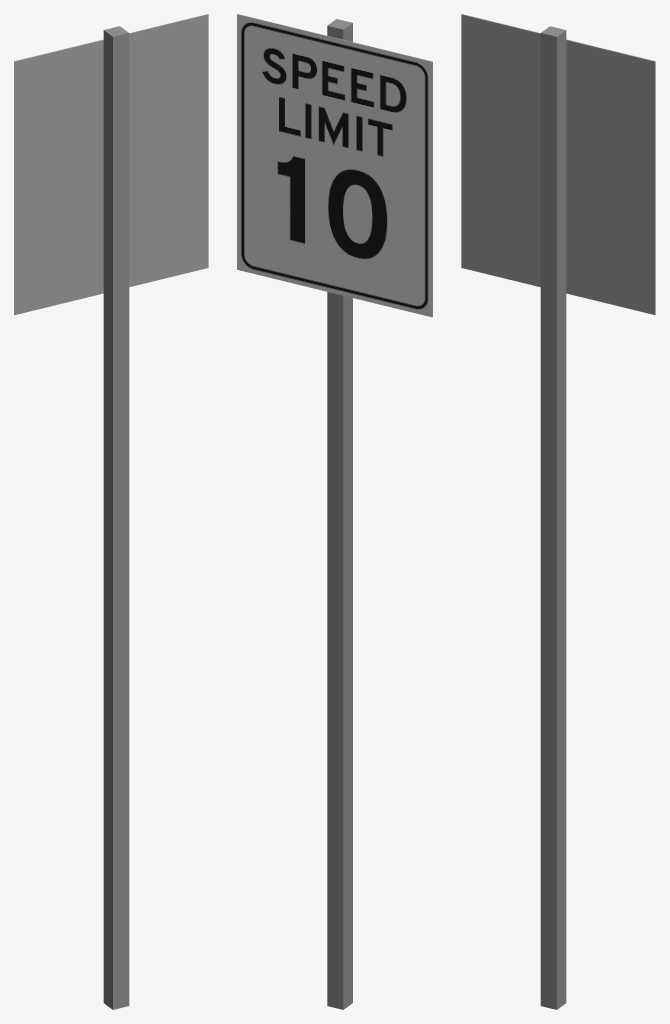
The model's file is sign_r2-1_speed_10.glb.
The picture shows the model from 3 angles, left to right: view 1: azimuth 30°, elevation 25°; view 2: azimuth 150°, elevation 25°; view 3: azimuth 330°, elevation 25°; orthographic projection.
Parts seen in each view (by area): view 1: sign_r2-1_speed_10; view 2: sign_r2-1_speed_10; view 3: sign_r2-1_speed_10.
Boxes of the visible parts, bbox=[...] form: sign_r2-1_speed_10: bbox=[14, 14, 208, 1009]; sign_r2-1_speed_10: bbox=[237, 14, 432, 1009]; sign_r2-1_speed_10: bbox=[461, 14, 655, 1009].
Size of the model in its own units: 0.6096 by 2.93 by 0.0543.
Materials: 3 (1 with a texture image).
